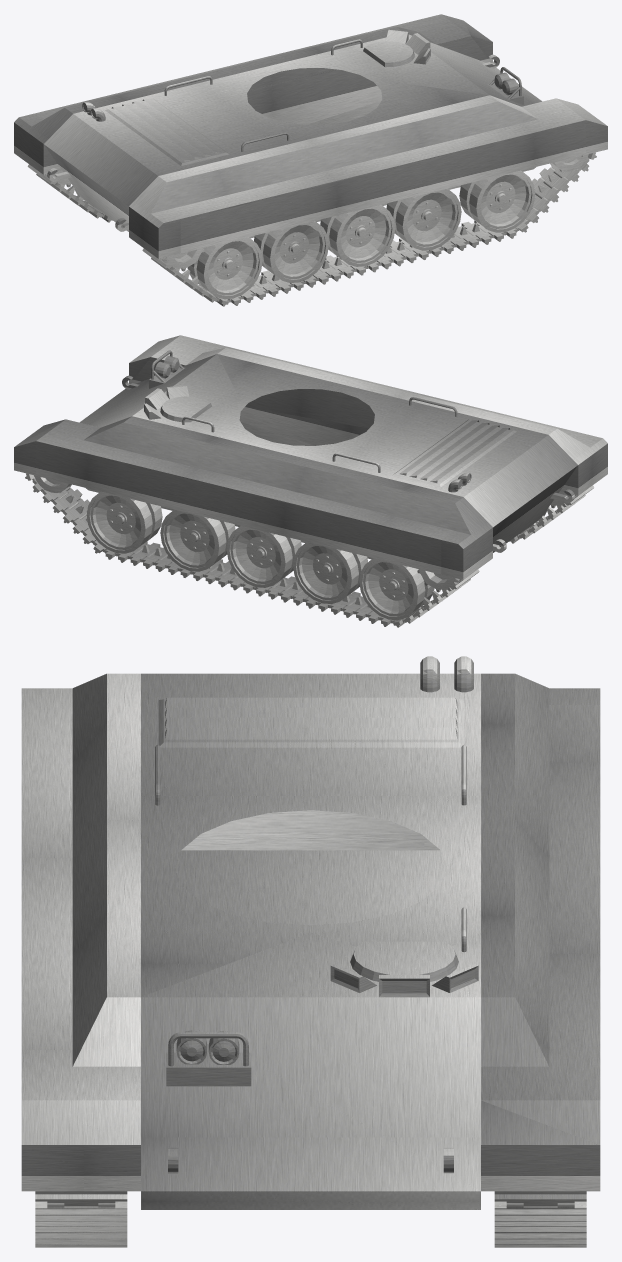
The model's file is T_302tracks.fbx.
3 renders of one model, top to bottom at view 1: azimuth 30°, elevation 25°; view 2: azimuth 150°, elevation 25°; view 3: azimuth 270°, elevation 25°, orthographic. The views are drawn at different scales.
Parts seen in each view (by area): view 1: tank, tracks; view 2: tank, tracks; view 3: tank, tracks.
Part boxes in pixels (x1,y1,x2,y2): tank: [14, 14, 607, 258]; tracks: [27, 119, 596, 306]; tank: [14, 335, 607, 579]; tracks: [25, 473, 594, 627]; tank: [21, 656, 600, 1209]; tracks: [35, 1191, 586, 1247].
Bounding box in the file's own units: 6.15 × 1.76 × 3.4.
Materials: 11 (11 with a texture image).
